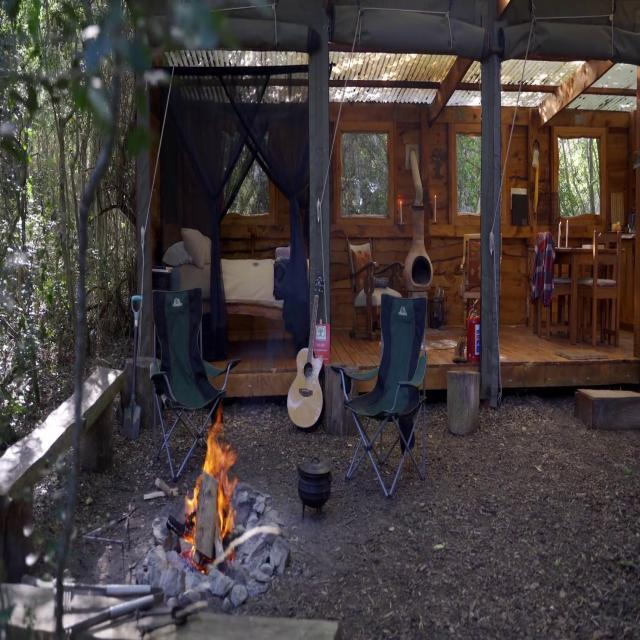Fire: (182, 408, 238, 556)
